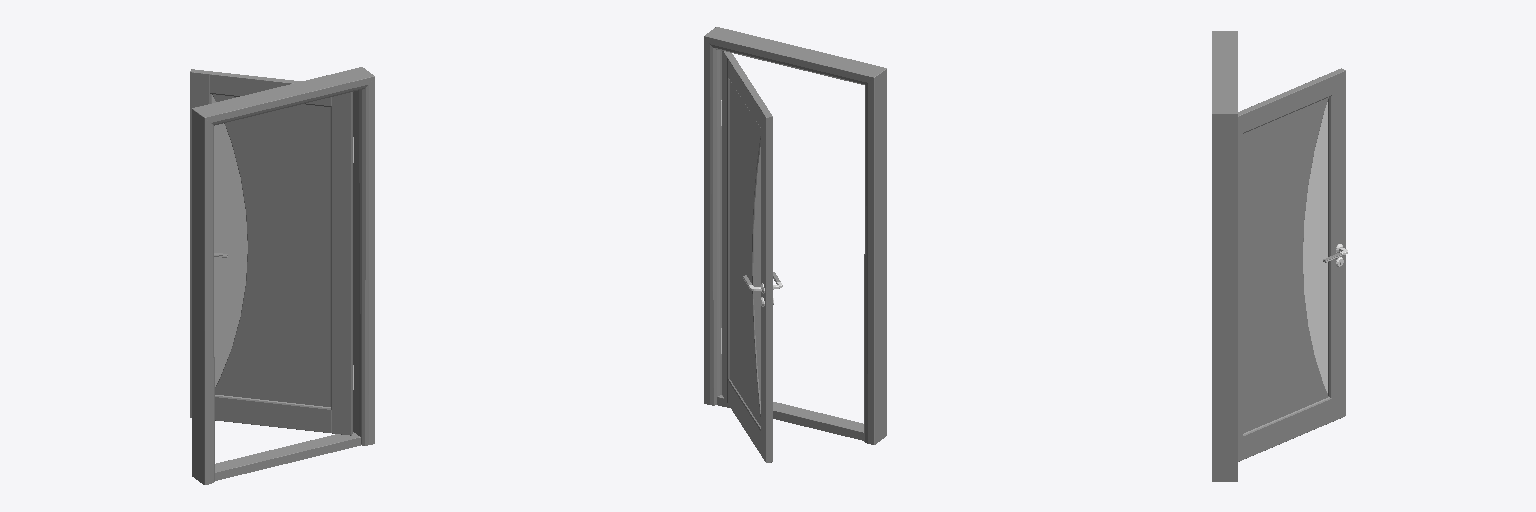
The picture shows the model from 3 angles: view 1: azimuth 30°, elevation 25°; view 2: azimuth 150°, elevation 25°; view 3: azimuth 270°, elevation 25°; orthographic projection.
Size of the model in its own units: 1.06 by 2.18 by 0.73.
Materials: 4 (1 with a texture image).